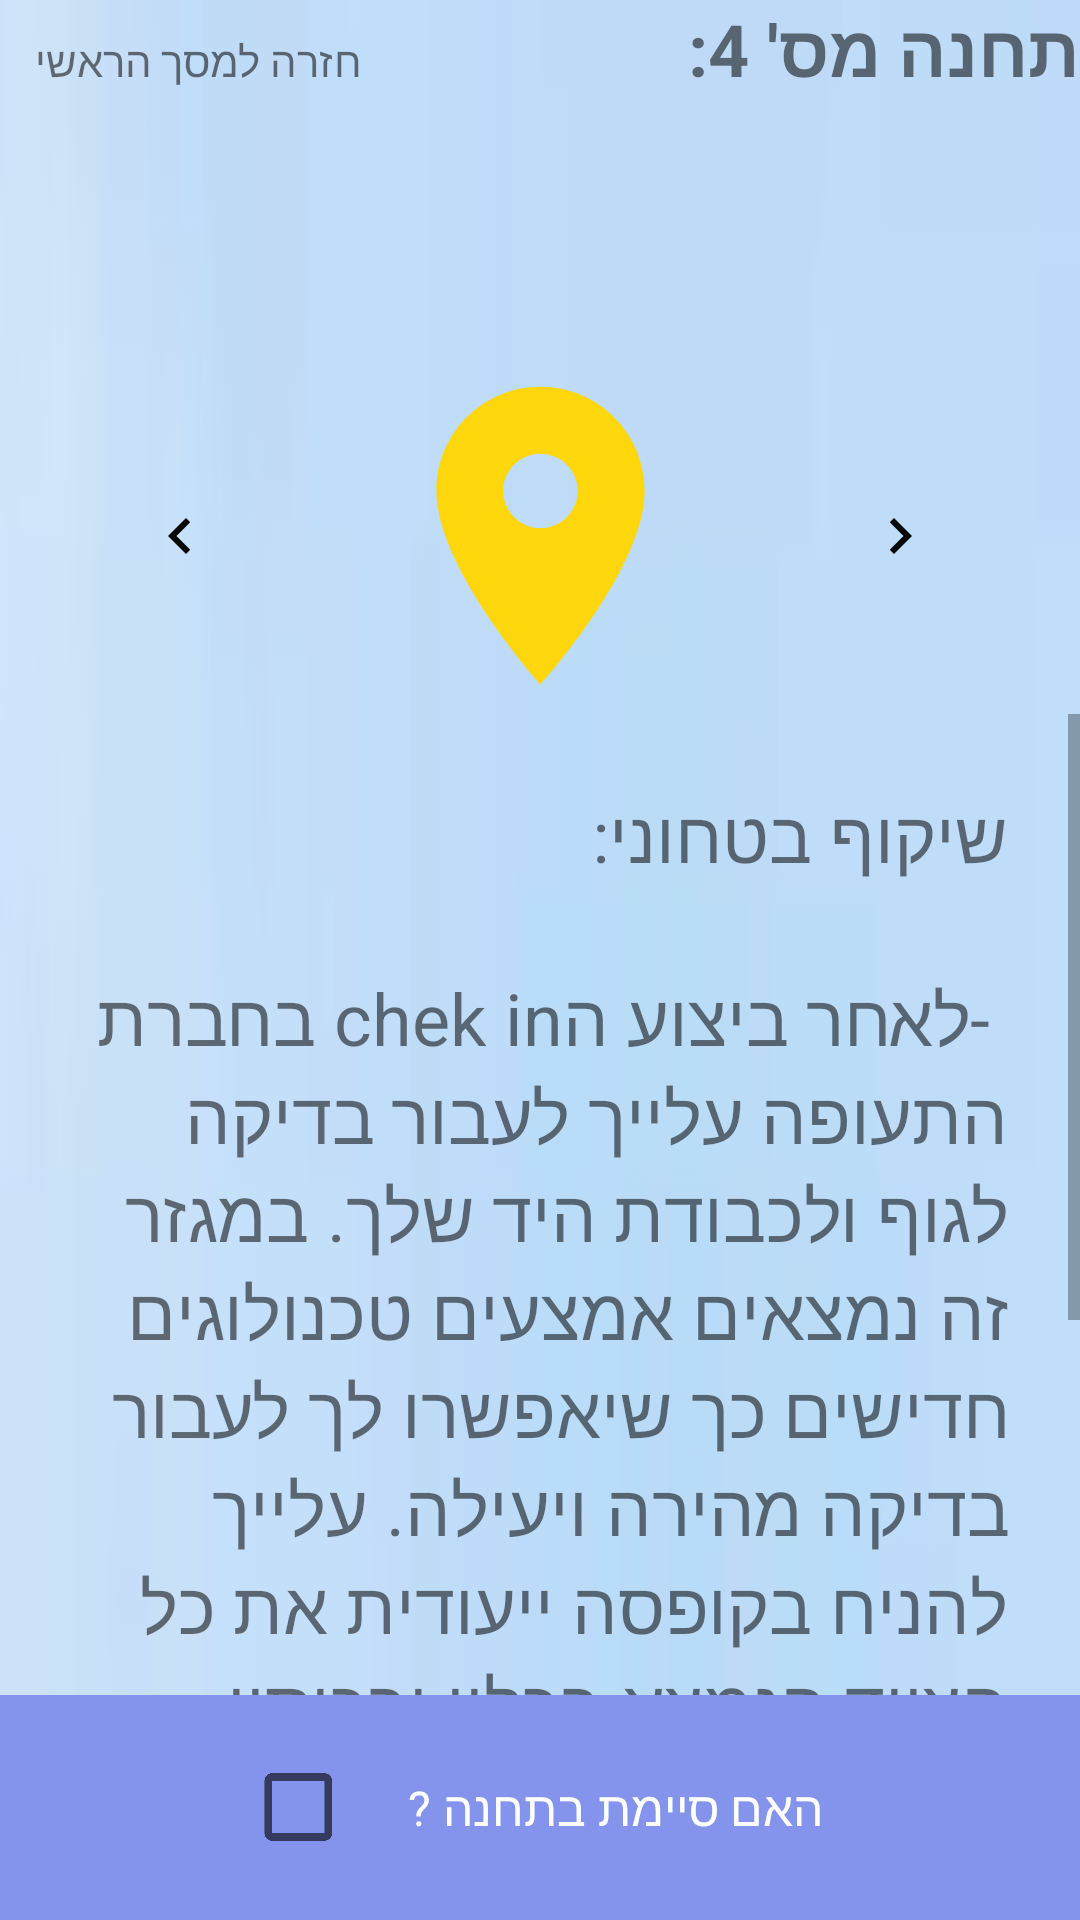

Icons on this 1080x1920 Android screen, each with the point to tap as (x=x, y=y):
loca: (x=540, y=535)
navnext: (x=901, y=536)
